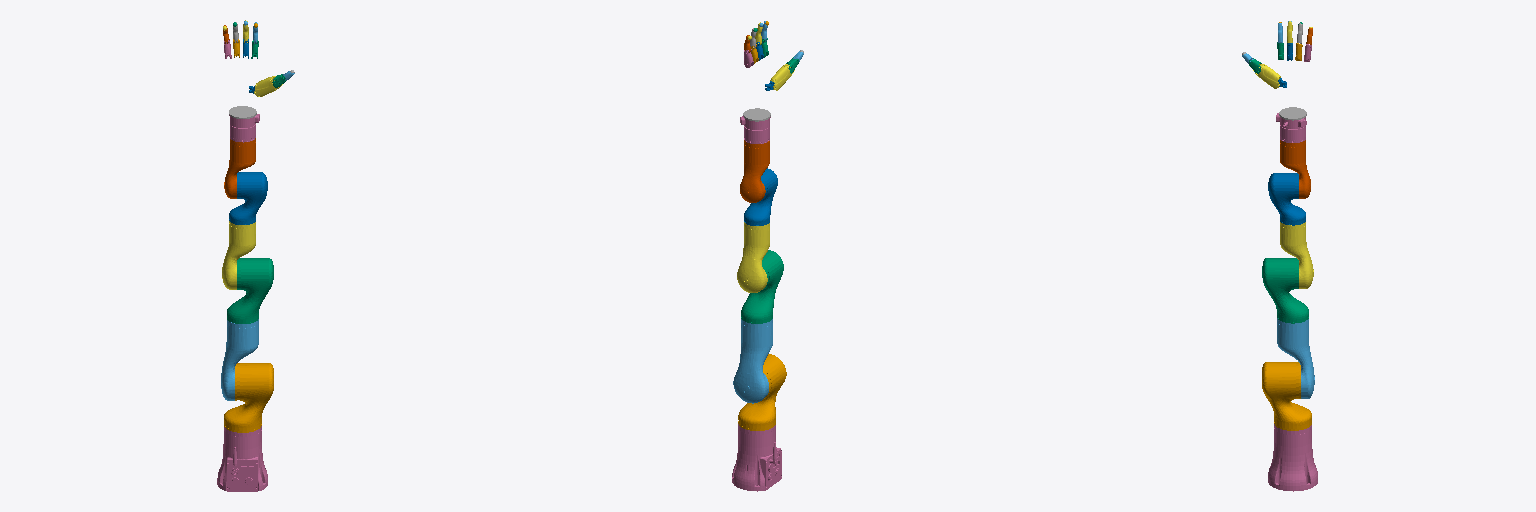
--- Facts derived from the render (not from the file) ---
3 views of the same robot in one strip: view 1: azimuth 90°, elevation 25°; view 2: azimuth 150°, elevation 25°; view 3: azimuth 270°, elevation 25° (orthographic).
Robot: Realman_Inspire_R_mimic — 28 links, 27 joints (19 revolute, 8 fixed); root link Root; default pose: all joints at 0.
Links seen in each view (by area): view 1: base_link, Link1, Link3, Link2, Link5, Link4, Link6, Link7; view 2: base_link, Link2, Link1, Link4, Link3, Link6, Link5, Link7; view 3: base_link, Link1, Link3, Link2, Link5, Link4, Link6, Link7.
Link boxes in pixels (x1=…): base_link: x1=217, y1=426, x2=267, y2=491; Link1: x1=224, y1=363, x2=273, y2=432; Link3: x1=227, y1=258, x2=273, y2=323; Link2: x1=221, y1=319, x2=258, y2=400; Link5: x1=229, y1=172, x2=267, y2=224; Link4: x1=222, y1=221, x2=255, y2=289; Link6: x1=224, y1=138, x2=255, y2=198; Link7: x1=229, y1=114, x2=259, y2=142; base_link: x1=732, y1=424, x2=781, y2=491; Link2: x1=733, y1=319, x2=772, y2=403; Link1: x1=738, y1=354, x2=786, y2=430; Link4: x1=737, y1=222, x2=769, y2=292; Link3: x1=741, y1=250, x2=783, y2=323; Link6: x1=740, y1=140, x2=769, y2=202; Link5: x1=744, y1=168, x2=777, y2=225; Link7: x1=740, y1=116, x2=770, y2=143; base_link: x1=1268, y1=424, x2=1317, y2=491; Link1: x1=1262, y1=362, x2=1311, y2=430; Link3: x1=1262, y1=258, x2=1308, y2=323; Link2: x1=1277, y1=318, x2=1314, y2=398; Link5: x1=1268, y1=173, x2=1305, y2=225; Link4: x1=1280, y1=222, x2=1313, y2=288; Link6: x1=1280, y1=140, x2=1310, y2=198; Link7: x1=1276, y1=113, x2=1306, y2=142.
Size in the robot's own frame: 0.1143 by 0.1668 by 1.1 metres.
Meshes: 42 distinct files referenced, 20 mesh visuals loaded (20 OBJ); not drawn: 22 (reference not matched to a file when rendering).

robot.urdf — Realman_Inspire_R_mimic:
<?xml version="1.0" encoding="UTF-8"?>
<robot name="Realman_Inspire_R_mimic">
  <joint name="R_index_intermediate_joint" type="revolute">
    <origin xyz="-0.001 0.032026 0.0026138" rpy="0. 0. 0."/>
    <parent link="R_index_proximal"/>
    <child link="R_index_intermediate"/>
    <axis xyz="1. 0. 0."/>
    <limit lower="0." upper="1.7" effort="1." velocity="0.5"/>    
    <mimic 
      joint="R_index_proximal_joint"
      multiplier="1"
      offset="0" />
  </joint>
  <joint name="R_index_proximal_joint" type="revolute">
    <origin xyz="-0.0019977 -0.0322074 0.1386 " rpy="1.5707964 0.0348927 -1.6415869"/>
    <parent link="R_hand_base_link"/>
    <child link="R_index_proximal"/>
    <axis xyz="1. 0. 0."/>
    <limit lower="0." upper="1.7" effort="1.0" velocity="0.5"/>
  </joint>
  <joint name="R_middle_intermediate_joint" type="revolute">
    <origin xyz="-0.001 0.032041 0.0024229" rpy="0. 0. 0."/>
    <parent link="R_middle_proximal"/>
    <child link="R_middle_intermediate"/>
    <axis xyz="1. 0. 0."/>
    <limit lower="0." upper="1.7" effort="1." velocity="0.5"/>
    <mimic 
      joint="R_middle_proximal_joint"
      multiplier="1"
      offset="0" />
  </joint>
  <joint name="R_middle_proximal_joint" type="revolute">
    <origin xyz="-0.0006314 -0.0129378 0.13917 " rpy="1.5707964 -0.0000072 -1.6415869"/>
    <parent link="R_hand_base_link"/>
    <child link="R_middle_proximal"/>
    <axis xyz="1. 0. 0."/>
    <limit lower="0." upper="1.7" effort="1." velocity="0.5"/>
  </joint>
  <joint name="R_pinky_intermediate_joint" type="revolute">
    <origin xyz="-0.001 0.032041 0.0024229" rpy="0. 0. 0."/>
    <parent link="R_pinky_proximal"/>
    <child link="R_pinky_intermediate"/>
    <axis xyz="1. 0. 0."/>
    <limit lower="0." upper="1.7" effort="1." velocity="0.5"/>
    <mimic 
      joint="R_pinky_proximal_joint"
      multiplier="1"
      offset="0" />
  </joint>
  <joint name="R_pinky_proximal_joint" type="revolute">
    <origin xyz="0.0020874 0.025404 0.13778 " rpy="1.5707964 -0.1046926 -1.6415869"/>
    <parent link="R_hand_base_link"/>
    <child link="R_pinky_proximal"/>
    <axis xyz="1. 0. 0."/>
    <limit lower="0." upper="1.7" effort="1." velocity="0.5"/>
  </joint>
  <joint name="R_ring_intermediate_joint" type="revolute">
    <origin xyz="-0.001 0.032041 0.0024229" rpy="0. 0. 0."/>
    <parent link="R_ring_proximal"/>
    <child link="R_ring_intermediate"/>
    <axis xyz="1. 0. 0."/>
    <limit lower="0." upper="1.7" effort="1." velocity="0.5"/>
    <mimic 
      joint="R_ring_proximal_joint"
      multiplier="1"
      offset="0" />
  </joint>
  <joint name="R_ring_proximal_joint" type="revolute">
    <origin xyz="0.0007293 0.0062512 0.13898 " rpy="1.5707964 -0.0523926 -1.6415869"/>
    <parent link="R_hand_base_link"/>
    <child link="R_ring_proximal"/>
    <axis xyz="1. 0. 0."/>
    <limit lower="0." upper="1.7" effort="1." velocity="0.5"/>
  </joint>
  <joint name="R_thumb_distal_joint" type="revolute">
    <origin xyz="-0.0012 0.010156 -0.020248" rpy="0. 0. 0."/>
    <parent link="R_thumb_intermediate"/>
    <child link="R_thumb_distal"/>
    <axis xyz="1. 0. 0."/>
    <limit
      lower="0"
      upper="1.2"
      effort="1"
      velocity="0.5" />
    <mimic 
      joint="R_thumb_proximal_pitch_joint"
      multiplier="2.4"
      offset="0" />
  </joint>
  <joint name="R_thumb_intermediate_joint" type="revolute">
    <origin xyz="-0.0008 0.034553 -0.04407 " rpy="0. 0. 0."/>
    <parent link="R_thumb_proximal"/>
    <child link="R_thumb_intermediate"/>
    <axis xyz="1. 0. 0."/>
    <limit
      lower="0"
      upper="0.8"
      effort="1"
      velocity="0.5" />
    <mimic 
      joint="R_thumb_proximal_pitch_joint"
      multiplier="1.6"
      offset="0" />
  </joint>
  <joint name="R_thumb_proximal_pitch_joint" type="revolute">
    <origin xyz="0.00925 0.010892 -0.0088099" rpy="0.0000011 -0.2828926 1.5707926"/>
    <parent link="R_thumb_proximal_base"/>
    <child link="R_thumb_proximal"/>
    <axis xyz="1. 0. 0."/>
    <limit lower="-0.1" upper="0.6" effort="1." velocity="0.5"/>
  </joint>
  <joint name="R_thumb_proximal_yaw_joint" type="revolute">
    <origin xyz="-0.018364 -0.0191992 0.07117 " rpy="1.5940461 1.5707927 3.0940557"/>
    <parent link="R_hand_base_link"/>
    <child link="R_thumb_proximal_base"/>
    <axis xyz="1. 0. 0."/>
    <limit lower="-0.1" upper="1.2999998" effort="1." velocity="0.5"/>
  </joint>
  <joint name="hand_joint" type="fixed">
    <origin xyz="-0. 0. 0." rpy="0. 1.5707963 0. "/>
    <parent link="Link7"/>
    <child link="R_flange_link"/>
  </joint>
  <joint name="hand_root_joint" type="fixed">
    <origin xyz="0. 0. -0." rpy="0. 0. 0."/>
    <parent link="R_flange_link"/>
    <child link="R_hand_base_link"/>
  </joint>
  <joint name="joint1" type="revolute">
    <origin xyz="0. 0. 0.2405" rpy="3.1415927 -1.5707928 1.5707964"/>
    <parent link="base_link"/>
    <child link="Link1"/>
    <axis xyz="1. 0. 0."/>
    <limit lower="-3.1070001" upper="3.1070001" effort="100." velocity="1."/>
  </joint>
  <joint name="joint2" type="revolute">
    <origin xyz="0. 0. 0." rpy="3.1415927 -1.5707928 0. "/>
    <parent link="Link1"/>
    <child link="Link2"/>
    <axis xyz="1. 0. 0."/>
    <limit lower="-2.2689999" upper="2.2689999" effort="100." velocity="1."/>
  </joint>
  <joint name="joint3" type="revolute">
    <origin xyz="0. 0. 0.256" rpy="3.1415927 -1.5707928 0. "/>
    <parent link="Link2"/>
    <child link="Link3"/>
    <axis xyz="1. 0. 0."/>
    <limit lower="-3.1070001" upper="3.1070001" effort="100." velocity="1."/>
  </joint>
  <joint name="joint4" type="revolute">
    <origin xyz="0. 0. 0." rpy="3.1415927 -1.5707928 0. "/>
    <parent link="Link3"/>
    <child link="Link4"/>
    <axis xyz="1. 0. 0."/>
    <limit lower="-2.3559998" upper="2.3559998" effort="100." velocity="1."/>
  </joint>
  <joint name="joint5" type="revolute">
    <origin xyz="0. 0. 0.21" rpy="3.1415927 -1.5707928 0. "/>
    <parent link="Link4"/>
    <child link="Link5"/>
    <axis xyz="1. 0. 0."/>
    <limit lower="-3.1070001" upper="3.1070001" effort="100." velocity="1."/>
  </joint>
  <joint name="joint6" type="revolute">
    <origin xyz="0. 0. 0." rpy="3.1415927 -1.5707928 0. "/>
    <parent link="Link5"/>
    <child link="Link6"/>
    <axis xyz="1. 0. 0."/>
    <limit lower="-2.2339999" upper="2.2339999" effort="100." velocity="1."/>
  </joint>
  <joint name="joint7" type="revolute">
    <origin xyz="0. 0. 0.1725" rpy="-1.5707964 -1.5707964 0. "/>
    <parent link="Link6"/>
    <child link="Link7"/>
    <axis xyz="1. 0. 0."/>
    <limit lower="-6.2829994" upper="6.2829994" effort="100." velocity="1."/>
  </joint>
  <joint name="root_joint" type="fixed">
    <origin xyz="0. 0. 0." rpy="0. 0. 0."/>
    <parent link="Root"/>
    <child link="base_link"/>
  </joint>
  <link name="Link1">
    <inertial>
      <origin xyz="0. 0. 0." rpy="0. 0. 0."/>
      <mass value="0.59356"/>
      <inertia ixx="0." ixy="0." ixz="0." iyy="0." iyz="0." izz="0."/>
    </inertial>
    <visual>
      <origin xyz="0. 0. 0." rpy="0. 0. 1.5707964"/>
      <geometry>
        <mesh filename="meshes/Link1_visuals.obj" scale="1. 1. 1."/>
      </geometry>
    </visual>
    <visual>
      <origin xyz="0. 0. 0." rpy="0. 0. 1.5707964"/>
      <geometry>
        <mesh filename="meshes/Link1_collisions.obj" scale="1. 1. 1."/>
      </geometry>
    </visual>
    <collision>
      <origin xyz="0. 0. 0." rpy="0. 0. 1.5707964"/>
      <geometry>
        <mesh filename="meshes/Link1_collisions.obj" scale="1. 1. 1."/>
      </geometry>
    </collision>
  </link>
  <link name="Link2">
    <inertial>
      <origin xyz="0. 0. 0." rpy="0. 0. 0."/>
      <mass value="0.43285"/>
      <inertia ixx="0." ixy="0." ixz="0." iyy="0." iyz="0." izz="0."/>
    </inertial>
    <visual>
      <origin xyz="0. 0. 0." rpy="0. 0. -1.5707964"/>
      <geometry>
        <mesh filename="meshes/Link2_visuals.obj" scale="1. 1. 1."/>
      </geometry>
    </visual>
    <visual>
      <origin xyz="0. 0. 0." rpy="0. 0. -1.5707964"/>
      <geometry>
        <mesh filename="meshes/Link2_collisions.obj" scale="1. 1. 1."/>
      </geometry>
    </visual>
    <collision>
      <origin xyz="0. 0. 0." rpy="0. 0. -1.5707964"/>
      <geometry>
        <mesh filename="meshes/Link2_collisions.obj" scale="1. 1. 1."/>
      </geometry>
    </collision>
  </link>
  <link name="Link3">
    <inertial>
      <origin xyz="0. 0. 0." rpy="0. 0. 0."/>
      <mass value="0.43132"/>
      <inertia ixx="0." ixy="0." ixz="0." iyy="0." iyz="0." izz="0."/>
    </inertial>
    <visual>
      <origin xyz="0. 0. 0." rpy="0. 0. 1.5707964"/>
      <geometry>
        <mesh filename="meshes/Link3_visuals.obj" scale="1. 1. 1."/>
      </geometry>
    </visual>
    <visual>
      <origin xyz="0. 0. 0." rpy="0. 0. 1.5707964"/>
      <geometry>
        <mesh filename="meshes/Link3_collisions.obj" scale="1. 1. 1."/>
      </geometry>
    </visual>
    <collision>
      <origin xyz="0. 0. 0." rpy="0. 0. 1.5707964"/>
      <geometry>
        <mesh filename="meshes/Link3_collisions.obj" scale="1. 1. 1."/>
      </geometry>
    </collision>
  </link>
  <link name="Link4">
    <inertial>
      <origin xyz="0. 0. 0." rpy="0. 0. 0."/>
      <mass value="0.28963"/>
      <inertia ixx="0." ixy="0." ixz="0." iyy="0." iyz="0." izz="0."/>
    </inertial>
    <visual>
      <origin xyz="0. 0. 0." rpy="0. 0. -1.5707964"/>
      <geometry>
        <mesh filename="meshes/Link4_visuals.obj" scale="1. 1. 1."/>
      </geometry>
    </visual>
    <visual>
      <origin xyz="0. 0. 0." rpy="0. 0. -1.5707964"/>
      <geometry>
        <mesh filename="meshes/Link4_collisions.obj" scale="1. 1. 1."/>
      </geometry>
    </visual>
    <collision>
      <origin xyz="0. 0. 0." rpy="0. 0. -1.5707964"/>
      <geometry>
        <mesh filename="meshes/Link4_collisions.obj" scale="1. 1. 1."/>
      </geometry>
    </collision>
  </link>
  <link name="Link5">
    <inertial>
      <origin xyz="0. 0. 0." rpy="0. 0. 0."/>
      <mass value="0.23941"/>
      <inertia ixx="0." ixy="0." ixz="0." iyy="0." iyz="0." izz="0."/>
    </inertial>
    <visual>
      <origin xyz="0. 0. 0." rpy="0. 0. 1.5707964"/>
      <geometry>
        <mesh filename="meshes/Link5_visuals.obj" scale="1. 1. 1."/>
      </geometry>
    </visual>
    <visual>
      <origin xyz="0. 0. 0." rpy="0. 0. 1.5707964"/>
      <geometry>
        <mesh filename="meshes/Link5_collisions.obj" scale="1. 1. 1."/>
      </geometry>
    </visual>
    <collision>
      <origin xyz="0. 0. 0." rpy="0. 0. 1.5707964"/>
      <geometry>
        <mesh filename="meshes/Link5_collisions.obj" scale="1. 1. 1."/>
      </geometry>
    </collision>
  </link>
  <link name="Link6">
    <inertial>
      <origin xyz="0. 0. 0." rpy="0. 0. 0."/>
      <mass value="0.21879"/>
      <inertia ixx="0." ixy="0." ixz="0." iyy="0." iyz="0." izz="0."/>
    </inertial>
    <visual>
      <origin xyz="0. 0. 0." rpy="0. 0. -1.5707964"/>
      <geometry>
        <mesh filename="meshes/Link6_visuals.obj" scale="1. 1. 1."/>
      </geometry>
    </visual>
    <visual>
      <origin xyz="0. 0. 0." rpy="0. 0. -1.5707964"/>
      <geometry>
        <mesh filename="meshes/Link6_collisions.obj" scale="1. 1. 1."/>
      </geometry>
    </visual>
    <collision>
      <origin xyz="0. 0. 0." rpy="0. 0. -1.5707964"/>
      <geometry>
        <mesh filename="meshes/Link6_collisions.obj" scale="1. 1. 1."/>
      </geometry>
    </collision>
  </link>
  <link name="Link7">
    <inertial>
      <origin xyz="0. 0. 0." rpy="0. 0. 0."/>
      <mass value="0.14433"/>
      <inertia ixx="0." ixy="0." ixz="0." iyy="0." iyz="0." izz="0."/>
    </inertial>
    <visual>
      <origin xyz="0. 0. 0." rpy="0. 1.5707963 0. "/>
      <geometry>
        <mesh filename="meshes/Link7_visuals.obj" scale="1. 1. 1."/>
      </geometry>
    </visual>
    <visual>
      <origin xyz="0. 0. 0." rpy="0. 1.5707963 0. "/>
      <geometry>
        <mesh filename="meshes/Link7_collisions.obj" scale="1. 1. 1."/>
      </geometry>
    </visual>
    <collision>
      <origin xyz="0. 0. 0." rpy="0. 1.5707963 0. "/>
      <geometry>
        <mesh filename="meshes/Link7_collisions.obj" scale="1. 1. 1."/>
      </geometry>
    </collision>
  </link> 
  <link name="R_flange_link">
    <visual>
      <origin xyz="0. 0. 0." rpy="0. 0. 0."/>
      <geometry>
        <cylinder radius="0.03" length="0.0038"/>
      </geometry>
    </visual>
    <collision>
      <origin xyz="0. 0. 0." rpy="0. 0. 0."/>
      <geometry>
        <cylinder radius="0.03" length="0.0038"/>
      </geometry>
    </collision>
  </link>
  <link name="R_hand_base_link">
    <inertial>
      <origin xyz="0. 0. 0." rpy="0. 0. 0."/>
      <mass value="0.14143"/>
      <inertia ixx="0." ixy="0." ixz="0." iyy="0." iyz="0." izz="0."/>
    </inertial>
    <visual>
      <origin xyz="-0. -0. 0.00207" rpy="-1.5707964 0. -0.0707906"/>
      <geometry>
        <mesh filename="meshes/R_hand_base_link_visuals.obj" scale="1. 1. 1."/>
      </geometry>
    </visual>
    <visual>
      <origin xyz="-0. -0. 0.00207" rpy="-1.5707964 0. -0.0707906"/>
      <geometry>
        <mesh filename="meshes/R_hand_base_link_collisions.obj" scale="1. 1. 1."/>
      </geometry>
    </visual>
    <collision>
      <origin xyz="-0. -0. 0.00207" rpy="-1.5707964 0. -0.0707906"/>
      <geometry>
        <mesh filename="meshes/R_hand_base_link_collisions.obj" scale="1. 1. 1."/>
      </geometry>
    </collision>
  </link>
  <link name="R_index_intermediate">
    <inertial>
      <origin xyz="0. 0. 0." rpy="0. 0. 0."/>
      <mass value="0.0045683"/>
      <inertia ixx="0." ixy="0." ixz="0." iyy="0." iyz="0." izz="0."/>
    </inertial>
    <visual>
      <origin xyz="0. 0. 0." rpy="0. 1.5707963 0. "/>
      <geometry>
        <mesh filename="meshes/R_index_intermediate_visuals.obj" scale="1. 1. 1."/>
      </geometry>
    </visual>
    <visual>
      <origin xyz="0. 0. 0." rpy="0. 1.5707963 0. "/>
      <geometry>
        <mesh filename="meshes/R_index_intermediate_collisions.obj" scale="1. 1. 1."/>
      </geometry>
    </visual>
    <collision>
      <origin xyz="0. 0. 0." rpy="0. 1.5707963 0. "/>
      <geometry>
        <mesh filename="meshes/R_index_intermediate_collisions.obj" scale="1. 1. 1."/>
      </geometry>
    </collision>
  </link>
  <link name="R_index_proximal">
    <inertial>
      <origin xyz="0. 0. 0." rpy="0. 0. 0."/>
      <mass value="0.0042403"/>
      <inertia ixx="0." ixy="0." ixz="0." iyy="0." iyz="0." izz="0."/>
    </inertial>
    <visual>
      <origin xyz="0. 0. 0." rpy="0. 1.5707963 0. "/>
      <geometry>
        <mesh filename="meshes/R_index_proximal_visuals.obj" scale="1. 1. 1."/>
      </geometry>
    </visual>
    <visual>
      <origin xyz="0. 0. 0." rpy="0. 1.5707963 0. "/>
      <geometry>
        <mesh filename="meshes/R_index_proximal_collisions.obj" scale="1. 1. 1."/>
      </geometry>
    </visual>
    <collision>
      <origin xyz="0. 0. 0." rpy="0. 1.5707963 0. "/>
      <geometry>
        <mesh filename="meshes/R_index_proximal_collisions.obj" scale="1. 1. 1."/>
      </geometry>
    </collision>
  </link>
  <link name="R_middle_intermediate">
    <inertial>
      <origin xyz="0. 0. 0." rpy="0. 0. 0."/>
      <mass value="0.0050396"/>
      <inertia ixx="0." ixy="0." ixz="0." iyy="0." iyz="0." izz="0."/>
    </inertial>
    <visual>
      <origin xyz="0. 0. 0." rpy="0. 1.5707963 0. "/>
      <geometry>
        <mesh filename="meshes/R_middle_intermediate_visuals.obj" scale="1. 1. 1."/>
      </geometry>
    </visual>
    <visual>
      <origin xyz="0. 0. 0." rpy="0. 1.5707963 0. "/>
      <geometry>
        <mesh filename="meshes/R_middle_intermediate_collisions.obj" scale="1. 1. 1."/>
      </geometry>
    </visual>
    <collision>
      <origin xyz="0. 0. 0." rpy="0. 1.5707963 0. "/>
      <geometry>
        <mesh filename="meshes/R_middle_intermediate_collisions.obj" scale="1. 1. 1."/>
      </geometry>
    </collision>
  </link>
  <link name="R_middle_proximal">
    <inertial>
      <origin xyz="0. 0. 0." rpy="0. 0. 0."/>
      <mass value="0.0042403"/>
      <inertia ixx="0." ixy="0." ixz="0." iyy="0." iyz="0." izz="0."/>
    </inertial>
    <visual>
      <origin xyz="0. 0. 0." rpy="0. 1.5707963 0. "/>
      <geometry>
        <mesh filename="meshes/R_middle_proximal_visuals.obj" scale="1. 1. 1."/>
      </geometry>
    </visual>
    <visual>
      <origin xyz="0. 0. 0." rpy="0. 1.5707963 0. "/>
      <geometry>
        <mesh filename="meshes/R_middle_proximal_collisions.obj" scale="1. 1. 1."/>
      </geometry>
    </visual>
    <collision>
      <origin xyz="0. 0. 0." rpy="0. 1.5707963 0. "/>
      <geometry>
        <mesh filename="meshes/R_middle_proximal_collisions.obj" scale="1. 1. 1."/>
      </geometry>
    </collision>
  </link>
  <link name="R_pinky_intermediate">
    <inertial>
      <origin xyz="0. 0. 0." rpy="0. 0. 0."/>
      <mass value="0.0035996"/>
      <inertia ixx="0." ixy="0." ixz="0." iyy="0." iyz="0." izz="0."/>
    </inertial>
    <visual>
      <origin xyz="0. 0. 0." rpy="0. 1.5707963 0. "/>
      <geometry>
        <mesh filename="meshes/R_pinky_intermediate_visuals.obj" scale="1. 1. 1."/>
      </geometry>
    </visual>
    <visual>
      <origin xyz="0. 0. 0." rpy="0. 1.5707963 0. "/>
      <geometry>
        <mesh filename="meshes/R_pinky_intermediate_collisions.obj" scale="1. 1. 1."/>
      </geometry>
    </visual>
    <collision>
      <origin xyz="0. 0. 0." rpy="0. 1.5707963 0. "/>
      <geometry>
        <mesh filename="meshes/R_pinky_intermediate_collisions.obj" scale="1. 1. 1."/>
      </geometry>
    </collision>
  </link>
  <link name="R_pinky_proximal">
    <inertial>
      <origin xyz="0. 0. 0." rpy="0. 0. 0."/>
      <mass value="0.0042403"/>
      <inertia ixx="0." ixy="0." ixz="0." iyy="0." iyz="0." izz="0."/>
    </inertial>
    <visual>
      <origin xyz="0. 0. 0." rpy="0. 1.5707963 0. "/>
      <geometry>
        <mesh filename="meshes/R_pinky_proximal_visuals.obj" scale="1. 1. 1."/>
      </geometry>
    </visual>
    <visual>
      <origin xyz="0. 0. 0." rpy="0. 1.5707963 0. "/>
      <geometry>
        <mesh filename="meshes/R_pinky_proximal_collisions.obj" scale="1. 1. 1."/>
      </geometry>
    </visual>
    <collision>
      <origin xyz="0. 0. 0." rpy="0. 1.5707963 0. "/>
      <geometry>
        <mesh filename="meshes/R_pinky_proximal_collisions.obj" scale="1. 1. 1."/>
      </geometry>
    </collision>
  </link>
  <link name="R_ring_intermediate">
    <inertial>
      <origin xyz="0. 0. 0." rpy="0. 0. 0."/>
      <mass value="0.0045683"/>
      <inertia ixx="0." ixy="0." ixz="0." iyy="0." iyz="0." izz="0."/>
    </inertial>
    <visual>
      <origin xyz="0. 0. 0." rpy="0. 1.5707963 0. "/>
      <geometry>
        <mesh filename="meshes/R_ring_intermediate_visuals.obj" scale="1. 1. 1."/>
      </geometry>
    </visual>
    <visual>
      <origin xyz="0. 0. 0." rpy="0. 1.5707963 0. "/>
      <geometry>
        <mesh filename="meshes/R_ring_intermediate_collisions.obj" scale="1. 1. 1."/>
      </geometry>
    </visual>
    <collision>
      <origin xyz="0. 0. 0." rpy="0. 1.5707963 0. "/>
      <geometry>
        <mesh filename="meshes/R_ring_intermediate_collisions.obj" scale="1. 1. 1."/>
      </geometry>
    </collision>
  </link>
  <link name="R_ring_proximal">
    <inertial>
      <origin xyz="0. 0. 0." rpy="0. 0. 0."/>
      <mass value="0.0042403"/>
      <inertia ixx="0." ixy="0." ixz="0." iyy="0." iyz="0." izz="0."/>
    </inertial>
    <visual>
      <origin xyz="0. 0. 0." rpy="0. 1.5707963 0. "/>
      <geometry>
        <mesh filename="meshes/R_ring_proximal_visuals.obj" scale="1. 1. 1."/>
      </geometry>
    </visual>
    <visual>
      <origin xyz="0. 0. 0." rpy="0. 1.5707963 0. "/>
      <geometry>
        <mesh filename="meshes/R_ring_proximal_collisions.obj" scale="1. 1. 1."/>
      </geometry>
    </visual>
    <collision>
      <origin xyz="0. 0. 0." rpy="0. 1.5707963 0. "/>
      <geometry>
        <mesh filename="meshes/R_ring_proximal_collisions.obj" scale="1. 1. 1."/>
      </geometry>
    </collision>
  </link>
  <link name="R_thumb_distal">
    <inertial>
      <origin xyz="0. 0. 0." rpy="0. 0. 0."/>
      <mass value="0.0033441"/>
      <inertia ixx="0." ixy="0." ixz="0." iyy="0." iyz="0." izz="0."/>
    </inertial>
    <visual>
      <origin xyz="0. 0. 0." rpy="0. 1.5707963 0. "/>
      <geometry>
        <mesh filename="meshes/R_thumb_distal_visuals.obj" scale="1. 1. 1."/>
      </geometry>
    </visual>
    <visual>
      <origin xyz="0. 0. 0." rpy="0. 1.5707963 0. "/>
      <geometry>
        <mesh filename="meshes/R_thumb_distal_collisions.obj" scale="1. 1. 1."/>
      </geometry>
    </visual>
    <collision>
      <origin xyz="0. 0. 0." rpy="0. 1.5707963 0. "/>
      <geometry>
        <mesh filename="meshes/R_thumb_distal_collisions.obj" scale="1. 1. 1."/>
      </geometry>
    </collision>
  </link>
  <link name="R_thumb_intermediate">
    <inertial>
      <origin xyz="0. 0. 0." rpy="0. 0. 0."/>
      <mass value="0.0037847"/>
      <inertia ixx="0." ixy="0." ixz="0." iyy="0." iyz="0." izz="0."/>
    </inertial>
    <visual>
      <origin xyz="0. 0. 0." rpy="0. 1.5707963 0. "/>
      <geometry>
        <mesh filename="meshes/R_thumb_intermediate_visuals.obj" scale="1. 1. 1."/>
      </geometry>
    </visual>
    <visual>
      <origin xyz="0. 0. 0." rpy="0. 1.5707963 0. "/>
      <geometry>
        <mesh filename="meshes/R_thumb_intermediate_collisions.obj" scale="1. 1. 1."/>
      </geometry>
    </visual>
    <collision>
      <origin xyz="0. 0. 0." rpy="0. 1.5707963 0. "/>
      <geometry>
        <mesh filename="meshes/R_thumb_intermediate_collisions.obj" scale="1. 1. 1."/>
      </geometry>
    </collision>
  </link>
  <link name="R_thumb_proximal">
    <inertial>
      <origin xyz="0. 0. 0." rpy="0. 0. 0."/>
      <mass value="0.0066075"/>
      <inertia ixx="0." ixy="0." ixz="0." iyy="0." iyz="0." izz="0."/>
    </inertial>
    <visual>
      <origin xyz="0. 0. 0." rpy="0. 1.5707963 0. "/>
      <geometry>
        <mesh filename="meshes/R_thumb_proximal_visuals.obj" scale="1. 1. 1."/>
      </geometry>
    </visual>
    <visual>
      <origin xyz="0. 0. 0." rpy="0. 1.5707963 0. "/>
      <geometry>
        <mesh filename="meshes/R_thumb_proximal_collisions.obj" scale="1. 1. 1."/>
      </geometry>
    </visual>
    <collision>
      <origin xyz="0. 0. 0." rpy="0. 1.5707963 0. "/>
      <geometry>
        <mesh filename="meshes/R_thumb_proximal_collisions.obj" scale="1. 1. 1."/>
      </geometry>
    </collision>
  </link>
  <link name="R_thumb_proximal_base">
    <inertial>
      <origin xyz="0. 0. 0." rpy="0. 0. 0."/>
      <mass value="0.0018869"/>
      <inertia ixx="0." ixy="0." ixz="0." iyy="0." iyz="0." izz="0."/>
    </inertial>
    <visual>
      <origin xyz="0. 0. 0." rpy="0. -1.5707963 0. "/>
      <geometry>
        <mesh filename="meshes/R_thumb_proximal_base_visuals.obj" scale="1. 1. 1."/>
      </geometry>
    </visual>
    <visual>
      <origin xyz="0. 0. 0." rpy="0. -1.5707963 0. "/>
      <geometry>
        <mesh filename="meshes/R_thumb_proximal_base_collisions.obj" scale="1. 1. 1."/>
      </geometry>
    </visual>
    <collision>
      <origin xyz="0. 0. 0." rpy="0. -1.5707963 0. "/>
      <geometry>
        <mesh filename="meshes/R_thumb_proximal_base_collisions.obj" scale="1. 1. 1."/>
      </geometry>
    </collision>
  </link>
  <link name="Root"/>
  <link name="base_link">
    <inertial>
      <origin xyz="0. 0. 0." rpy="0. 0. 0."/>
      <mass value="0.84105"/>
      <inertia ixx="0." ixy="0." ixz="0." iyy="0." iyz="0." izz="0."/>
    </inertial>
    <visual>
      <origin xyz="0. 0. 0." rpy="0. 0. 0."/>
      <geometry>
        <mesh filename="meshes/base_link_visuals.obj" scale="1. 1. 1."/>
      </geometry>
    </visual>
    <visual>
      <origin xyz="0. 0. 0." rpy="0. 0. 0."/>
      <geometry>
        <mesh filename="meshes/base_link_collisions.obj" scale="1. 1. 1."/>
      </geometry>
    </visual>
    <collision>
      <origin xyz="0. 0. 0." rpy="0. 0. 0."/>
      <geometry>
        <mesh filename="meshes/base_link_collisions.obj" scale="1. 1. 1."/>
      </geometry>
    </collision>
  </link>
  <!-- <link name="R_thumb_tip">
	</link> 
	<joint name="R_thumb_tip_joint" type="fixed">
		<origin xyz="0. 0. 0." rpy="0. 1.5707963 0. " />
		<parent link="R_thumb_distal" />
		<child link="R_thumb_tip" />
	</joint> -->

  <!-- <joint name="FixedJoint" type="fixed">
    <origin xyz="0. 0. 0." rpy="0. 1.5707963 0. "/>
    <parent link="R_thumb_distal"/>
    <child link="R_thumb_tip"/>
  </joint>
  <link name="R_thumb_tip">
    <collision>
      <origin xyz="0.016 0.015 -0.006322" rpy="-0. 0. -0."/>
      <geometry>
        <sphere radius="0.005"/>
      </geometry>
    </collision>
    <visual>
      <origin xyz="0.016 0.015 -0.006322" rpy="-0. 0. -0."/>
      <geometry>
        <sphere radius="0.005"/>
      </geometry>
    </visual>
  </link> -->
  <link name="R_thumb_tip">
		<visual>
      <origin xyz="0. 0. 0." rpy="0 0 0" /> 
			<geometry>
				<sphere radius="0.005"/>
			</geometry>
    </visual>
    <collision>
      <origin xyz="0. 0. 0." rpy="0 0 0" />
			<geometry>
				<sphere radius="0.005"/>
			</geometry>
    </collision>
	</link>
	<joint name="R_thumb_tip_joint" type="fixed">
		<origin xyz="-0.006 0.013 -0.017" rpy="0 0 0" />
		<parent link="R_thumb_distal" />
		<child link="R_thumb_tip" />
	</joint>

  <link name="R_index_tip">
		<visual>
      <origin xyz="0. 0. 0." rpy="0 0 0" /> 
			<geometry>
				<sphere radius="0.005"/>
			</geometry>
    </visual>
    <collision>
      <origin xyz="0. 0. 0." rpy="0 0 0" />
			<geometry>
				<sphere radius="0.005"/>
			</geometry>
    </collision>
	</link>
	<joint name="R_index_tip_joint" type="fixed">
		<origin xyz="-0.005 0.040 0.004" rpy="0. 0. 0." />
		<parent link="R_index_intermediate" />
		<child link="R_index_tip" />
	</joint>

  <link name="R_middle_tip">
		<visual>
      <origin xyz="0. 0. 0." rpy="0 0 0" /> 
			<geometry>
				<sphere radius="0.005"/>
			</geometry>
    </visual>
    <collision>
      <origin xyz="0. 0. 0." rpy="0 0 0" />
			<geometry>
				<sphere radius="0.005"/>
			</geometry>
    </collision>
	</link>
	<joint name="R_middle_tip_joint" type="fixed">
		<origin xyz="-0.005 0.044 0.004" rpy="0 0 0" />
		<parent link="R_middle_intermediate" />
		<child link="R_middle_tip" />
	</joint>

  <link name="R_ring_tip">
		<visual>
      <origin xyz="0. 0. 0." rpy="0 0 0" /> 
			<geometry>
				<sphere radius="0.005"/>
			</geometry>
    </visual>
    <collision>
      <origin xyz="0. 0. 0." rpy="0 0 0" />
			<geometry>
				<sphere radius="0.005"/>
			</geometry>
    </collision>
	</link>
	<joint name="R_ring_tip_joint" type="fixed">
		<origin xyz="-0.005 0.041 0.004" rpy="0 0 0" />
		<parent link="R_ring_intermediate" />
		<child link="R_ring_tip" />
	</joint>

  <link name="R_pinky_tip">
		<visual>
      <origin xyz="0. 0. 0." rpy="0 0 0" /> 
			<geometry>
				<sphere radius="0.005"/>
			</geometry>
    </visual>
    <collision>
      <origin xyz="0. 0. 0." rpy="0 0 0" />
			<geometry>
				<sphere radius="0.005"/>
			</geometry>
    </collision>
	</link>
	<joint name="R_pinky_tip_joint" type="fixed">
		<origin xyz="-0.005 0.033 0.004" rpy="0 0 0" />
		<parent link="R_pinky_intermediate" />
		<child link="R_pinky_tip" />
	</joint>
</robot>
